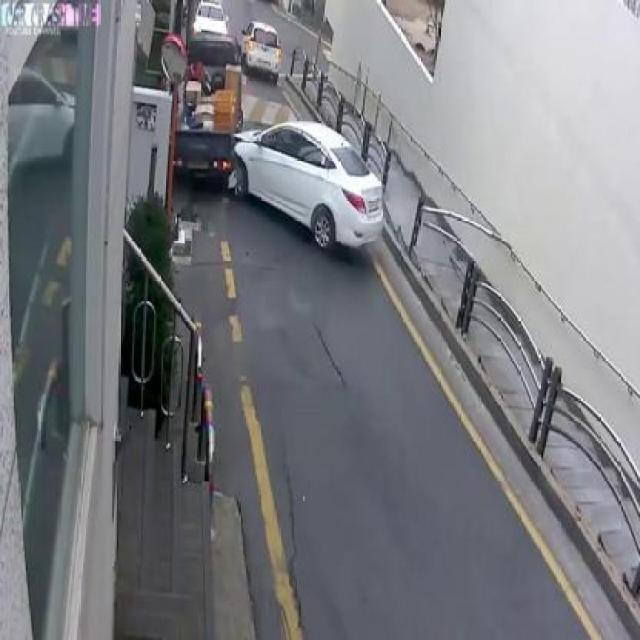accident: (138, 64, 408, 236)
